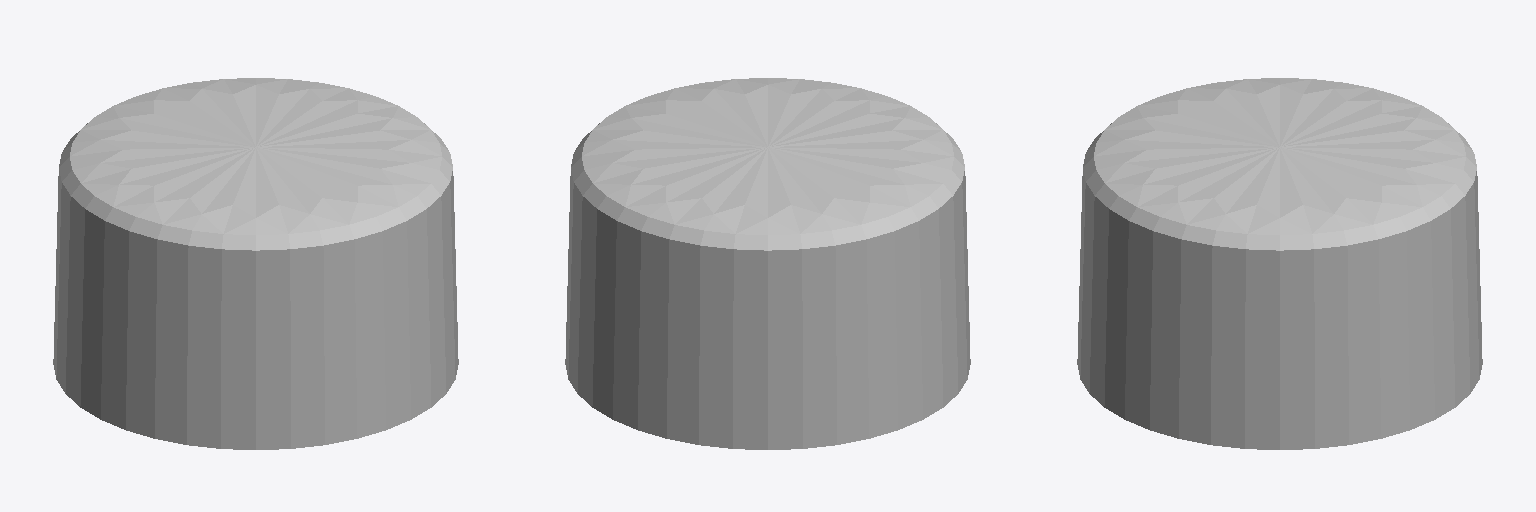
File: Int_prop_button_1.obj
3 renders of one model, left to right at view 1: azimuth 30°, elevation 25°; view 2: azimuth 150°, elevation 25°; view 3: azimuth 270°, elevation 25°, orthographic.
Visible parts, largest first — view 1: circular_buton_2:Cylinder003; view 2: circular_buton_2:Cylinder003; view 3: circular_buton_2:Cylinder003.
Boxes of the visible parts, x1,y1,x2,y2 form: circular_buton_2:Cylinder003: [53, 78, 458, 449]; circular_buton_2:Cylinder003: [565, 78, 970, 449]; circular_buton_2:Cylinder003: [1077, 78, 1482, 449].
Bounding box in the file's own units: 11.13 × 6.59 × 11.13.